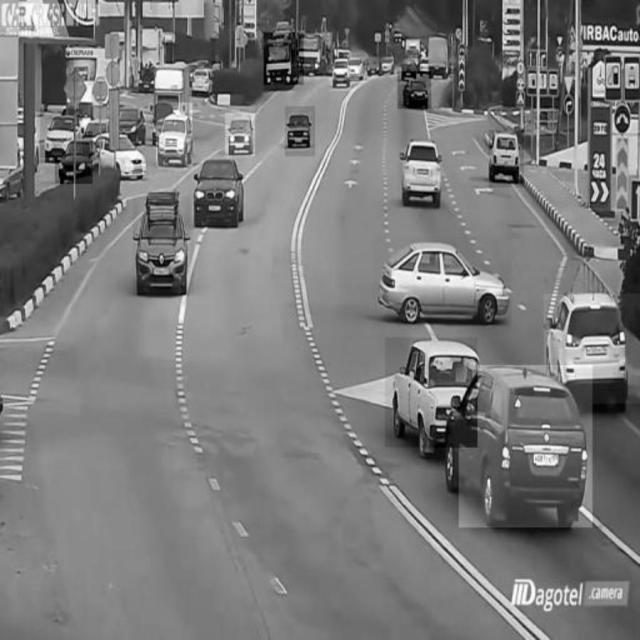vehicle: (459, 366, 593, 528), (374, 237, 511, 325), (544, 294, 640, 404), (385, 337, 477, 448), (133, 197, 194, 295), (191, 157, 248, 228), (399, 139, 445, 203), (98, 124, 148, 179), (156, 103, 192, 167), (265, 33, 305, 85), (40, 109, 82, 157), (489, 131, 524, 188), (55, 131, 93, 183), (285, 107, 315, 157), (225, 113, 255, 157), (398, 72, 432, 109), (330, 53, 357, 91), (189, 61, 215, 98)
